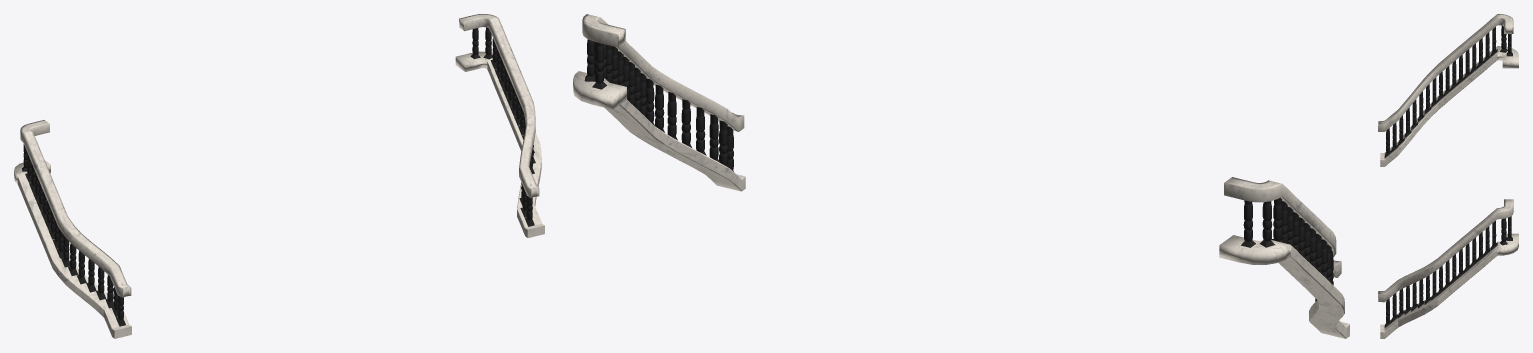
File: banister_stairs_left_reversed.fbx
The picture shows the model from 3 angles, left to right: view 1: azimuth 30°, elevation 25°; view 2: azimuth 150°, elevation 25°; view 3: azimuth 270°, elevation 25°; orthographic projection. The views are drawn at different scales.
Parts seen in each view (by area): view 1: handle1, handle, pillar1, pillar; view 2: handle, handle1, pillar, pillar1; view 3: handle, handle1, pillar, pillar1.
Part boxes in pixels (x1,y1,x2,y2): handle1: (14,120,131,338); handle: (455,14,544,237); pillar1: (22,144,125,326); pillar: (470,27,535,226); handle: (573,14,745,191); handle1: (1219,177,1349,338); pillar: (584,39,733,171); pillar1: (1241,197,1333,301); handle: (1378,199,1518,338); handle1: (1378,14,1518,166); pillar: (1384,216,1512,328); pillar1: (1384,26,1512,157).
Bounding box in the file's own units: 29.43 × 9.24 × 8.63.
2 materials, 2 textured.
